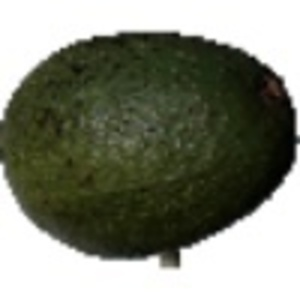abacate: (1, 30, 294, 255)
